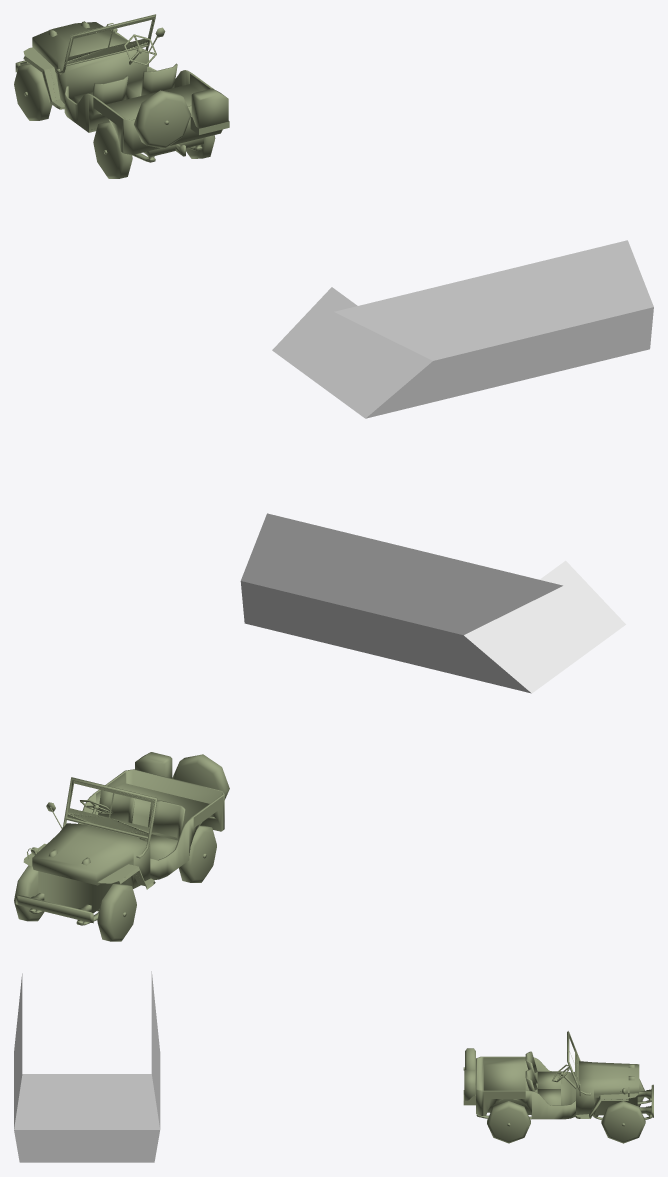
The model's file is us_jeep.glb.
3 views of the same model, one above another, from view 1: azimuth 30°, elevation 25°; view 2: azimuth 150°, elevation 25°; view 3: azimuth 270°, elevation 25° (orthographic). The views are drawn at different scales.
Visible parts, largest first — view 1: Our_APC_Hull, USJeep; view 2: Our_APC_Hull, USJeep; view 3: Our_APC_Hull, USJeep.
Boxes of the visible parts, x1,y1,x2,y2 form: Our_APC_Hull: (272, 240, 653, 418); USJeep: (14, 14, 229, 178); Our_APC_Hull: (240, 513, 625, 693); USJeep: (14, 752, 229, 941); Our_APC_Hull: (14, 971, 160, 1162); USJeep: (463, 1031, 653, 1143).
Size of the model in its own units: 4.64 by 1.99 by 11.33.
